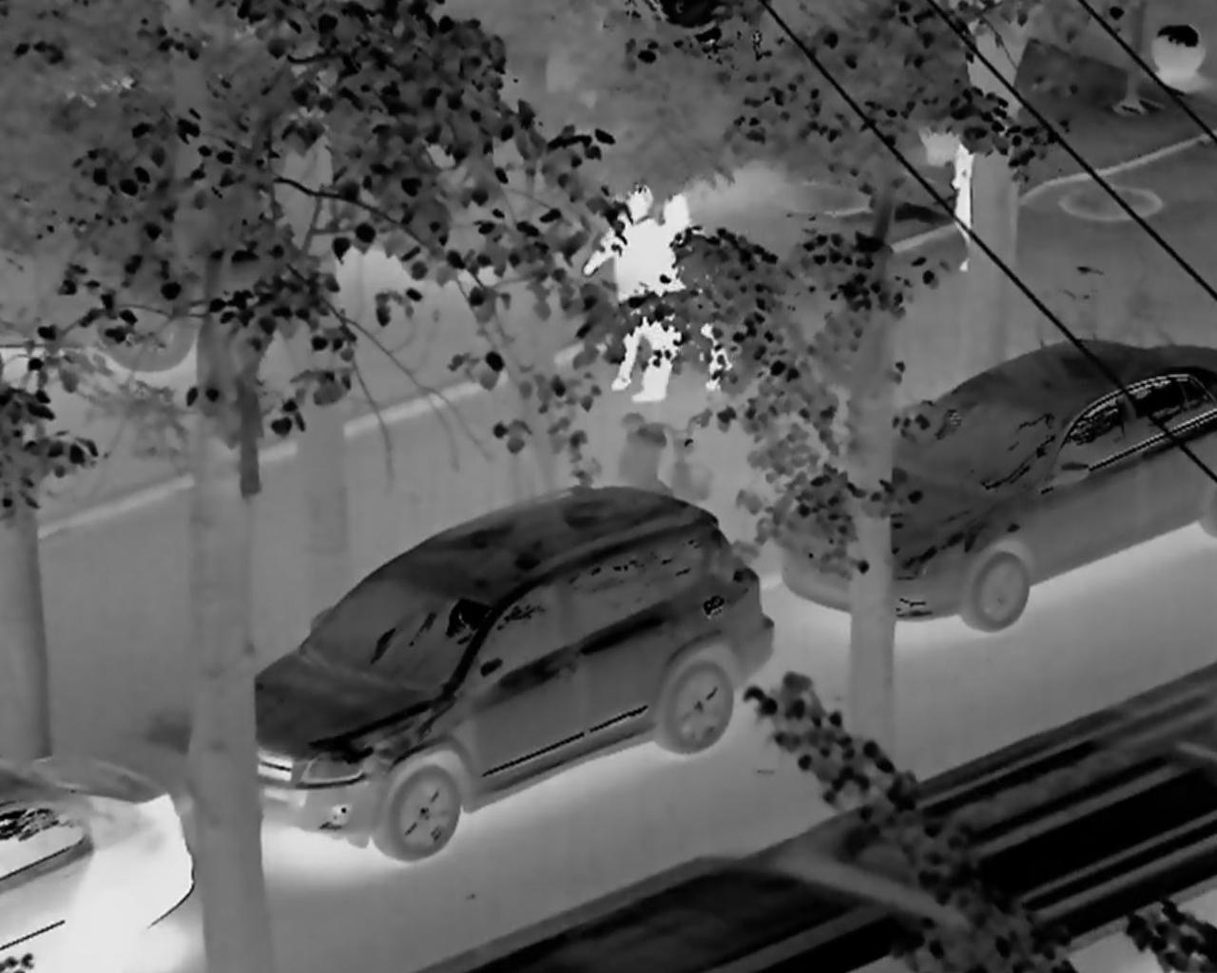person: (573, 170, 666, 414), (652, 186, 742, 433), (937, 96, 977, 261)
